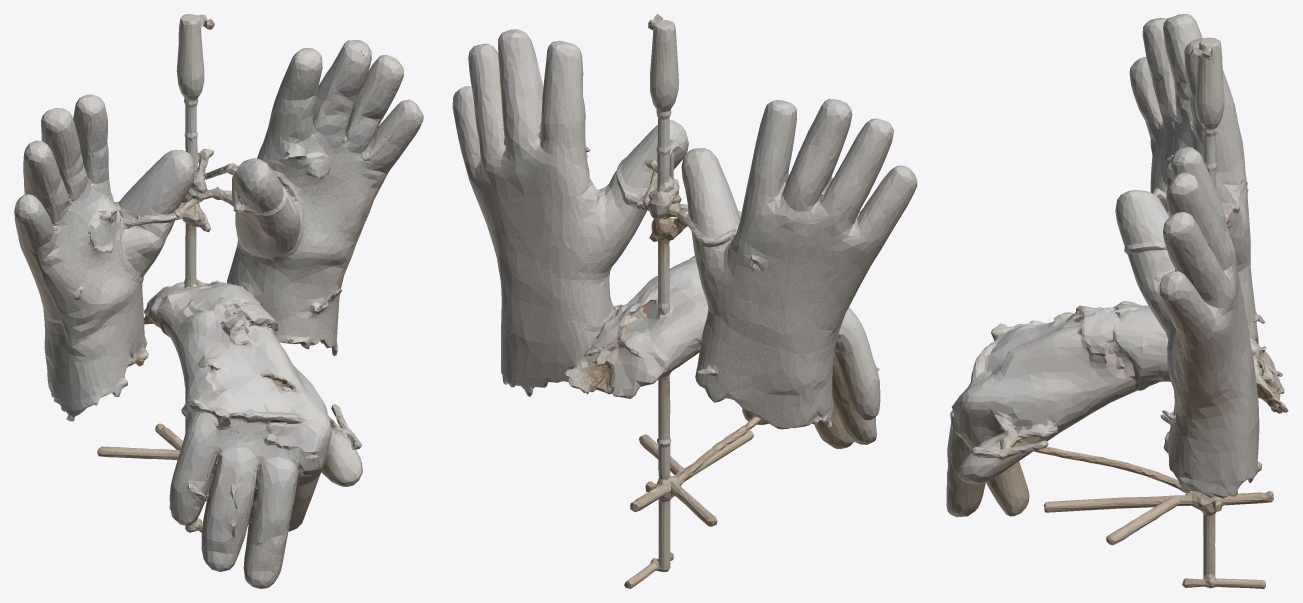
The model's file is belly (73).glb.
3 renders of one model, left to right at view 1: azimuth 30°, elevation 25°; view 2: azimuth 150°, elevation 25°; view 3: azimuth 270°, elevation 25°, orthographic. The views are drawn at different scales.
Visible parts, largest first — view 1: Hy21_Mesh.obj; view 2: Hy21_Mesh.obj; view 3: Hy21_Mesh.obj.
Part boxes in pixels (x1,y1,x2,y2): Hy21_Mesh.obj: (14, 14, 423, 588); Hy21_Mesh.obj: (452, 14, 917, 588); Hy21_Mesh.obj: (946, 14, 1288, 588).
Size of the model in its own units: 1.67 by 1.96 by 1.12.
1 material, 1 textured.
